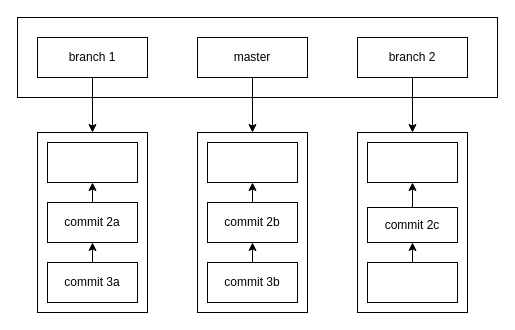
Some shapes in this 515 by 330 pixel diagram are drawn without their labels. Each missing label, with the box of its shape:
commit 1a: (46, 142, 138, 182)
commit 1b: (206, 142, 298, 182)
commit 1c: (366, 142, 458, 182)
commit 3c: (366, 262, 458, 302)
